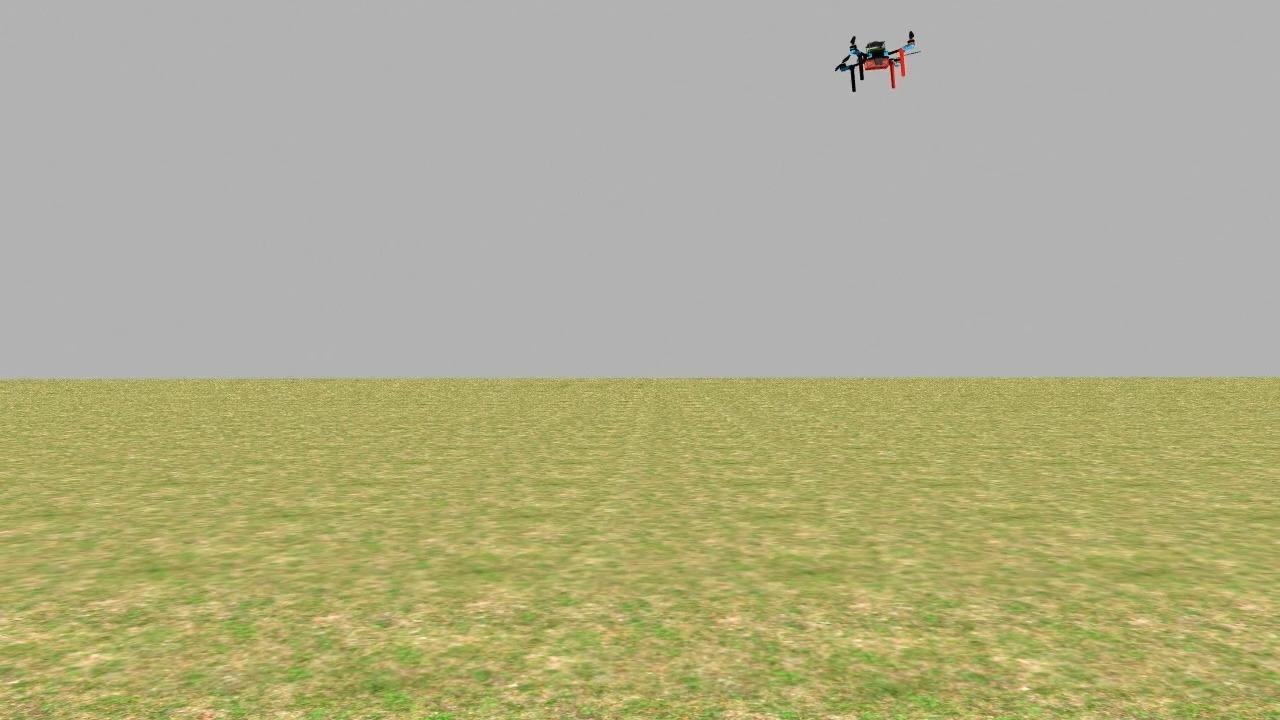UAV: (825, 25, 931, 94)
